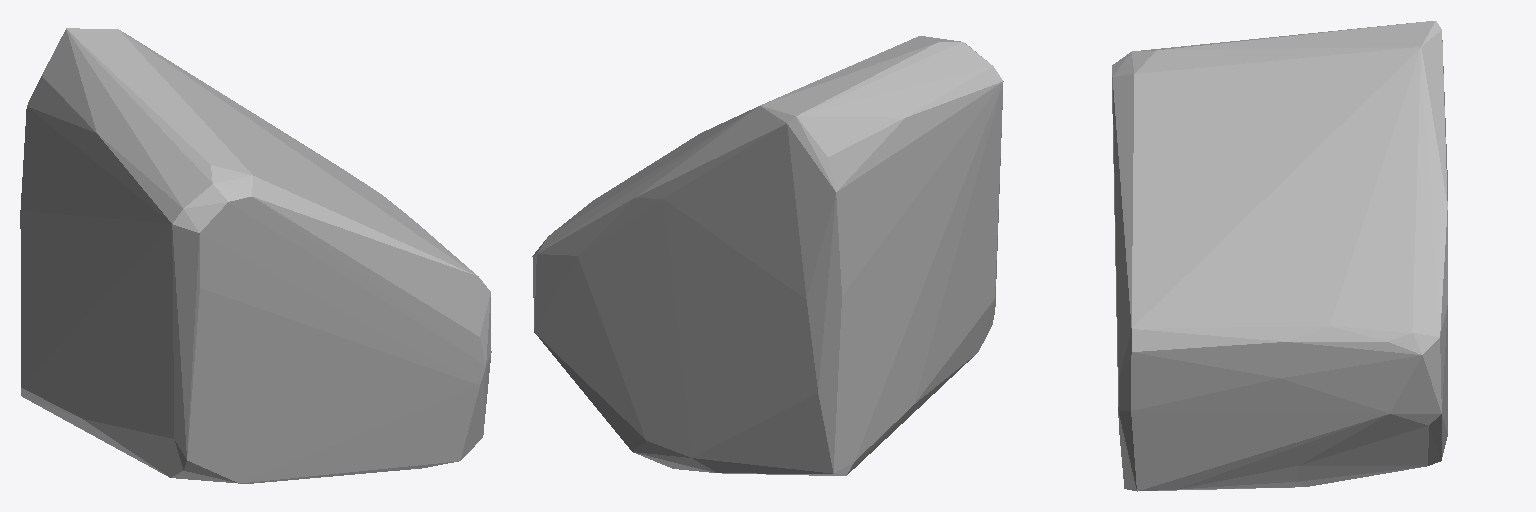
The robot description file, URDF, robot "root":
<robot name="root">
  <link name="link_rock30_convex_piece_0">
    <inertial>
      <origin rpy="0 0 0" xyz="0 0 0"/>
      <mass value="1.72E+06"/>
      <inertia ixx="7.23E+09" ixy="-4.55E+08" ixz="4.15E+08" iyy="6.09E+09" iyz="-1.67E+09" izz="5.44E+09"/>
    </inertial>
    <visual>
      <origin rpy="0 0 0" xyz="0 0 0"/>
      <geometry>
        <mesh filename="rock30_convex_piece_0.obj" scale="1.0000E+00 1.0000E+00 1.0000E+00"/>
      </geometry>
      <material name="">
        <color rgba="7.50E-01 7.50E-01 7.50E-01 1"/>
      </material>
    </visual>
    <collision>
      <origin rpy="0 0 0" xyz="0 0 0"/>
      <geometry>
        <mesh filename="rock30_convex_piece_0.obj" scale="1.0000E+00 1.0000E+00 1.0000E+00"/>
      </geometry>
    </collision>
  </link>
</robot>

--- Render facts (derived) ---
3 views of the same robot in one strip: view 1: azimuth 30°, elevation 25°; view 2: azimuth 150°, elevation 25°; view 3: azimuth 270°, elevation 25° (orthographic).
Model root with 1 links and 0 joints (none), rooted at link_rock30_convex_piece_0, posed all joints at 0.
Links seen in each view (by area): view 1: link_rock30_convex_piece_0; view 2: link_rock30_convex_piece_0; view 3: link_rock30_convex_piece_0.
Link boxes in pixels (x1,y1,x2,y2): link_rock30_convex_piece_0: [20, 28, 491, 483]; link_rock30_convex_piece_0: [532, 36, 1003, 475]; link_rock30_convex_piece_0: [1112, 21, 1447, 491].
Bounding box of the posed robot: 138 × 128 × 158 m (x, y, z).
1 mesh visuals loaded from 1 distinct referenced files (1 OBJ).